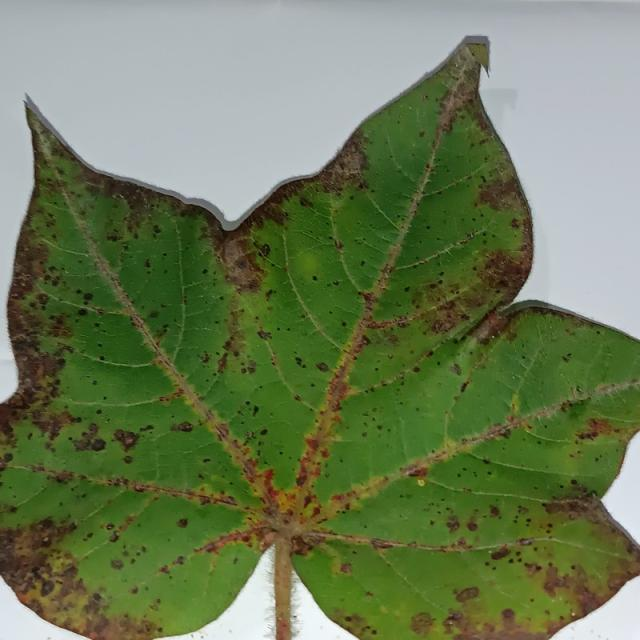Bacterial_Blight: (468, 245, 530, 310), (31, 309, 77, 349), (476, 180, 512, 212), (91, 617, 140, 640), (468, 311, 501, 345), (542, 564, 574, 598), (333, 147, 365, 180), (430, 312, 460, 335), (112, 428, 140, 451), (410, 611, 435, 635), (342, 613, 370, 634), (575, 420, 603, 440), (289, 536, 315, 556), (315, 355, 331, 382), (455, 586, 480, 602), (358, 289, 377, 309), (53, 469, 75, 484), (170, 421, 194, 433), (607, 575, 625, 591), (214, 422, 229, 441), (490, 546, 510, 560), (370, 539, 395, 550), (444, 612, 463, 626), (39, 580, 55, 596), (216, 353, 229, 372), (446, 516, 460, 531), (407, 467, 426, 478), (90, 438, 106, 451), (502, 608, 515, 621), (295, 472, 307, 486), (244, 360, 256, 374), (257, 329, 271, 340), (110, 559, 124, 570), (518, 537, 534, 546), (450, 363, 461, 376), (339, 563, 352, 574), (466, 521, 478, 532), (489, 505, 500, 517), (235, 259, 246, 270), (109, 531, 119, 543), (260, 243, 270, 255), (177, 518, 188, 528), (3, 452, 13, 463), (122, 455, 134, 464), (158, 565, 170, 574), (83, 292, 94, 301), (334, 239, 343, 250), (174, 556, 185, 565), (588, 489, 599, 498), (76, 308, 88, 316), (251, 404, 259, 416), (294, 357, 303, 366), (562, 353, 571, 362), (245, 430, 254, 439), (260, 428, 268, 436), (130, 586, 138, 594), (106, 523, 115, 530), (95, 408, 103, 415), (419, 130, 426, 137), (42, 536, 49, 543), (404, 286, 411, 292), (99, 355, 106, 361), (202, 268, 208, 275), (422, 94, 428, 101), (312, 275, 318, 281)
Cotton: (0, 43, 639, 639)
